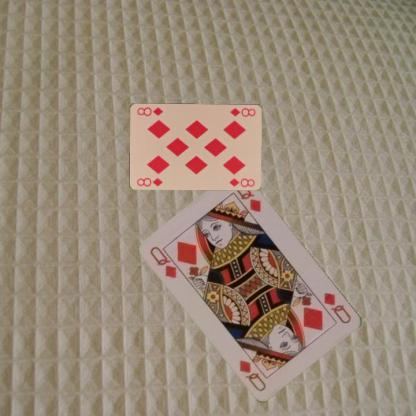8d: (228, 105, 257, 118), (135, 175, 164, 188)
Qd: (147, 244, 186, 280), (321, 290, 353, 326)
